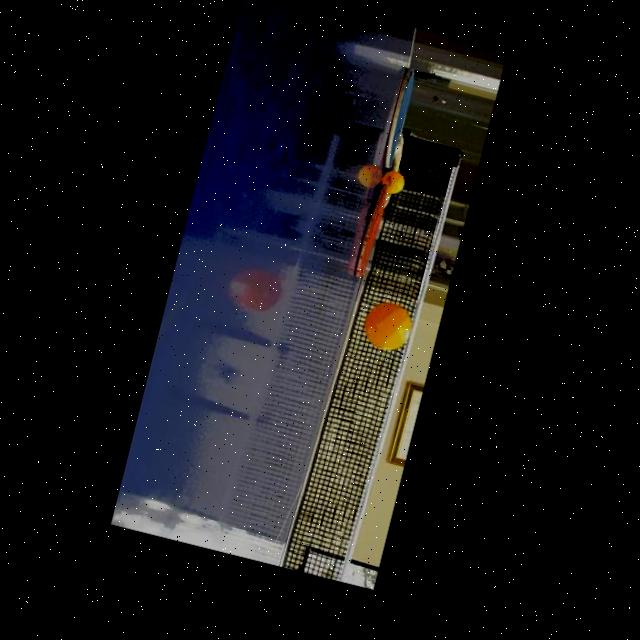ping-pong-ball: (360, 296, 416, 355), (379, 167, 406, 196)
